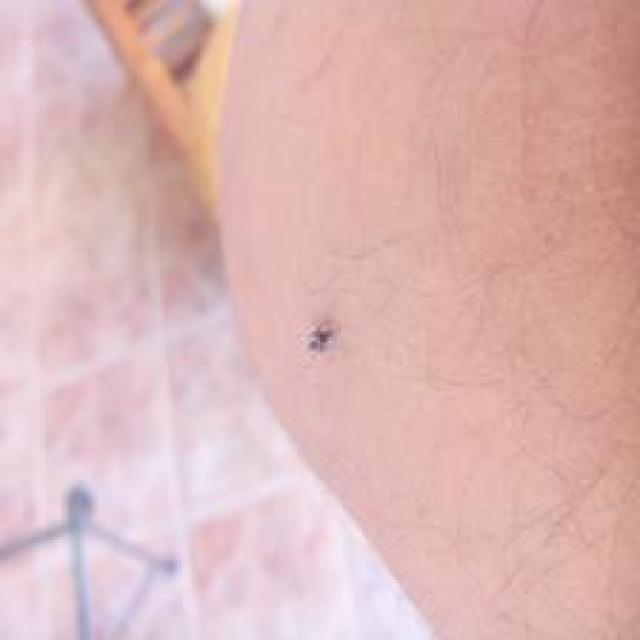Aedes albopictus: (0, 480, 183, 640)
